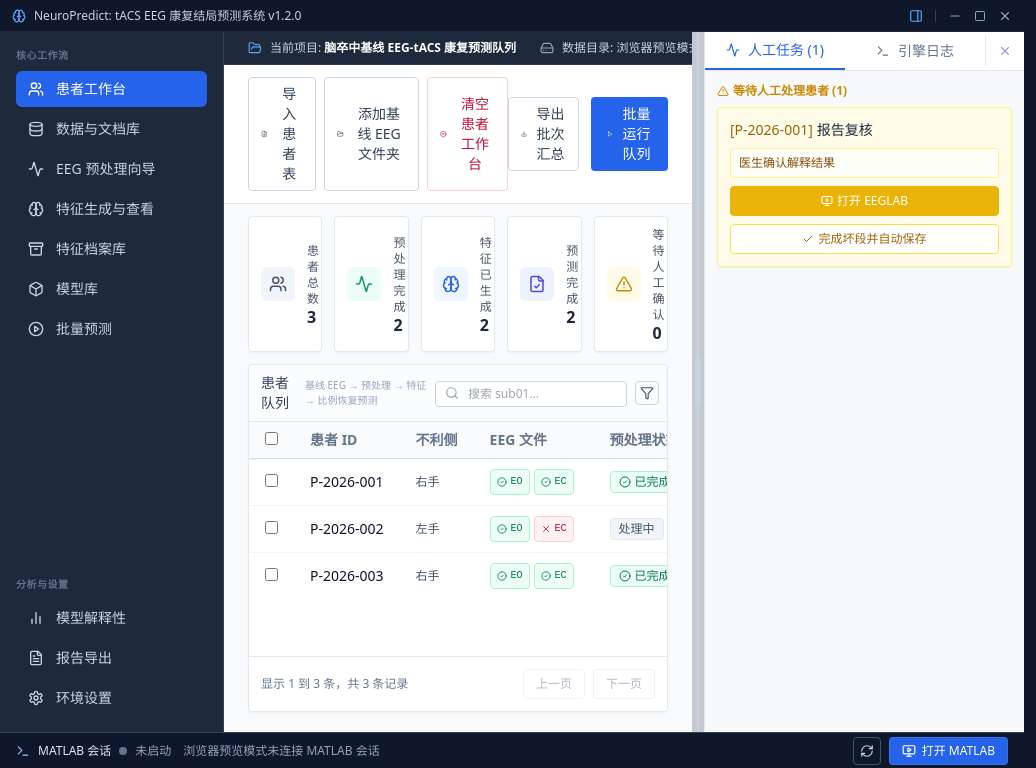
Test: Gemini batch prediction view › shows the locked label definition and model selection layout
Click the button "批量预测": (112, 329) [16,311,207,347]
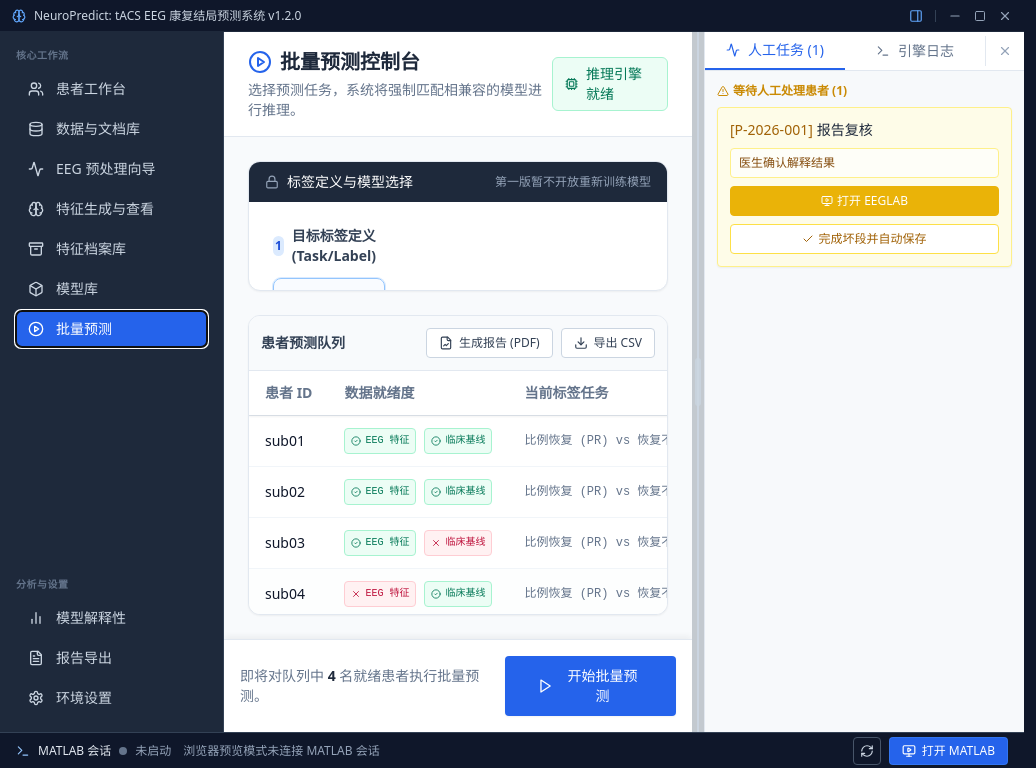
Expected: the text "批量预测控制台" is shown, [280,48,420,76]
Expected: the text "标签定义与模型选择" is shown, [287,172,413,192]
